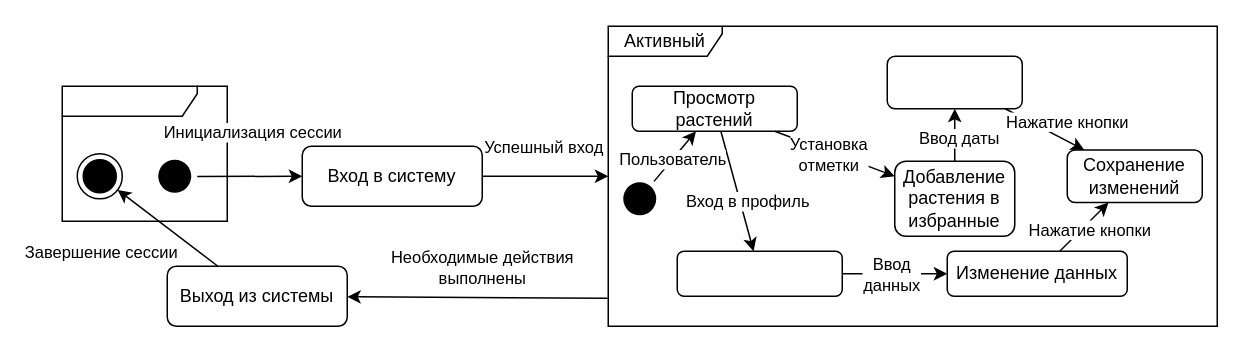
The diagram is 1245 pixels wide and 353 high, and some of its shapes have lost their labels. Here are the shapes that lost their labels. From the top down, the box of each, then its label:
(886, 55, 1022, 109): Добавление даты полива
(61, 85, 227, 221): Неактивный
(676, 250, 842, 296): Просмотр данных профиля
